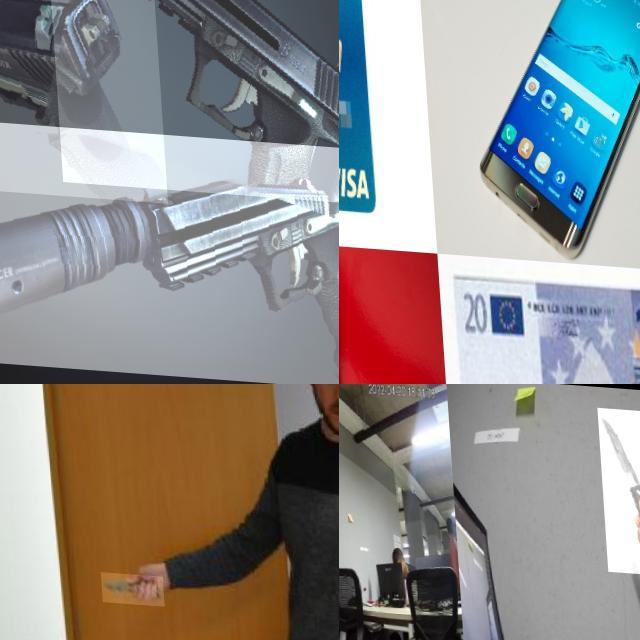-: (597, 400, 640, 568), (96, 566, 160, 600)
gun-knife-thesis - v11 Yolov5 augmented: (0, 109, 339, 382), (42, 0, 339, 196), (0, 0, 185, 197)
